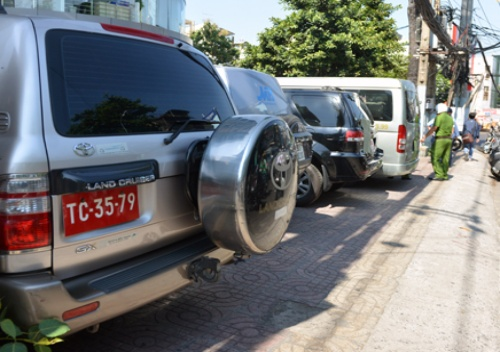plate: (59, 187, 142, 237)
